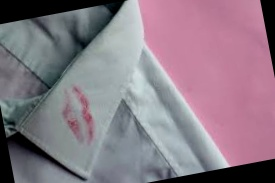lipstick: (61, 82, 102, 148)
